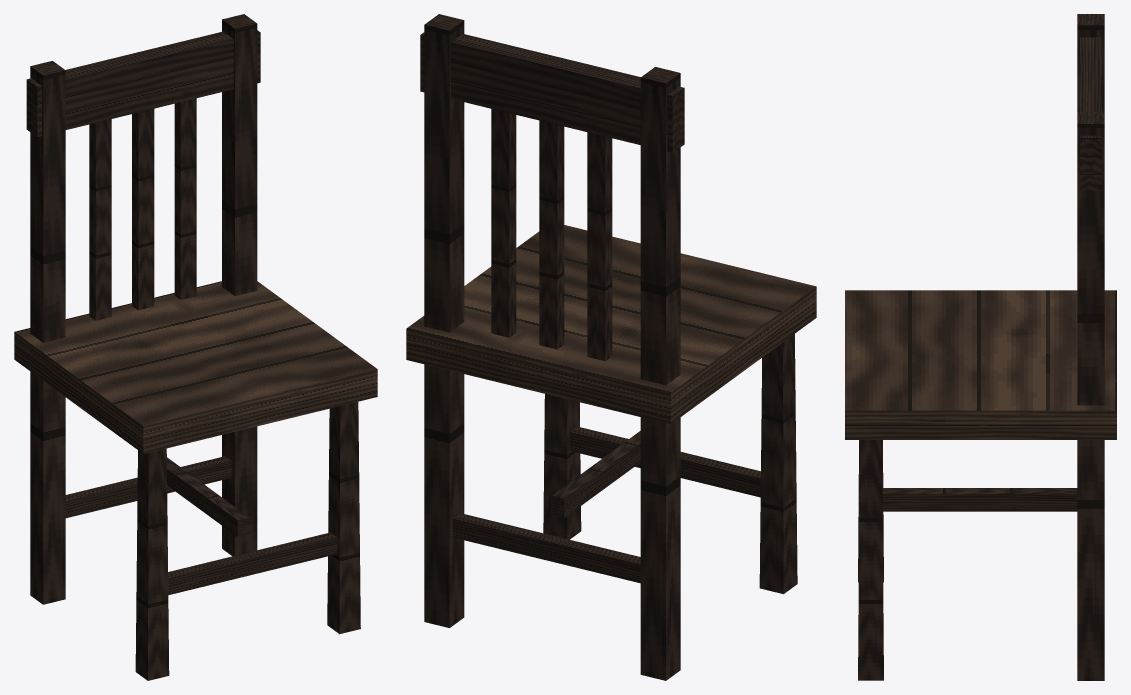
Rendered from PSXH_Chair.glb.
3 renders of one model, left to right at view 1: azimuth 30°, elevation 25°; view 2: azimuth 150°, elevation 25°; view 3: azimuth 270°, elevation 25°, orthographic. The views are drawn at different scales.
Visible parts, largest first — view 1: PSXH_Chair; view 2: PSXH_Chair; view 3: PSXH_Chair.
Part boxes in pixels (x1,y1,x2,y2): PSXH_Chair: (14,14,377,680); PSXH_Chair: (406,14,816,680); PSXH_Chair: (845,14,1116,680).
Size of the model in its own units: 0.44 by 0.95 by 0.42.
1 material, 1 textured.
